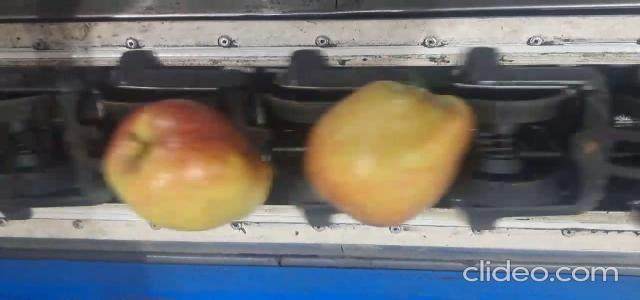apple: (305, 81, 475, 226), (104, 100, 271, 230)
